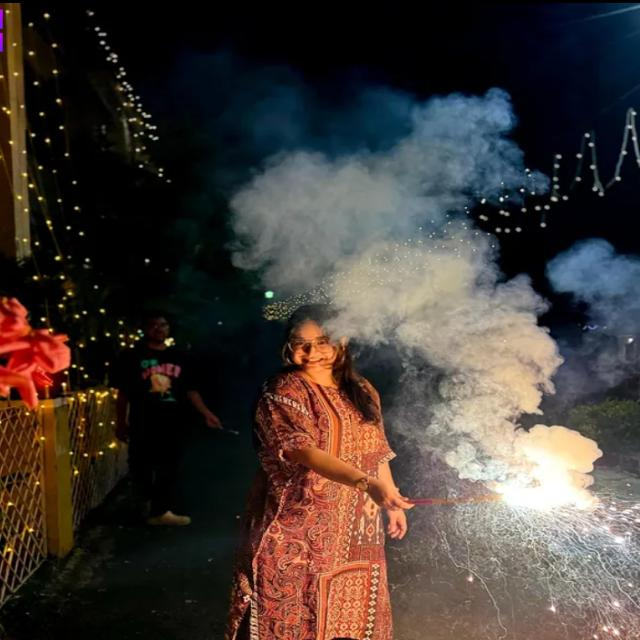fire: (497, 485, 600, 519), (598, 500, 640, 555)
